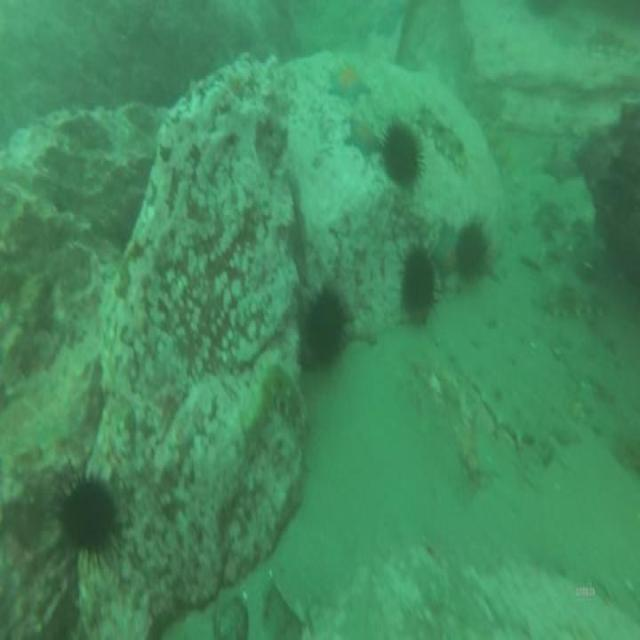echinus: (47, 458, 129, 575), (397, 234, 440, 332), (305, 278, 350, 370), (380, 114, 424, 198), (452, 212, 490, 288)
holothurian: (455, 354, 542, 454), (416, 106, 474, 177), (534, 274, 612, 326)
starfish: (339, 111, 385, 166), (324, 60, 374, 109)
